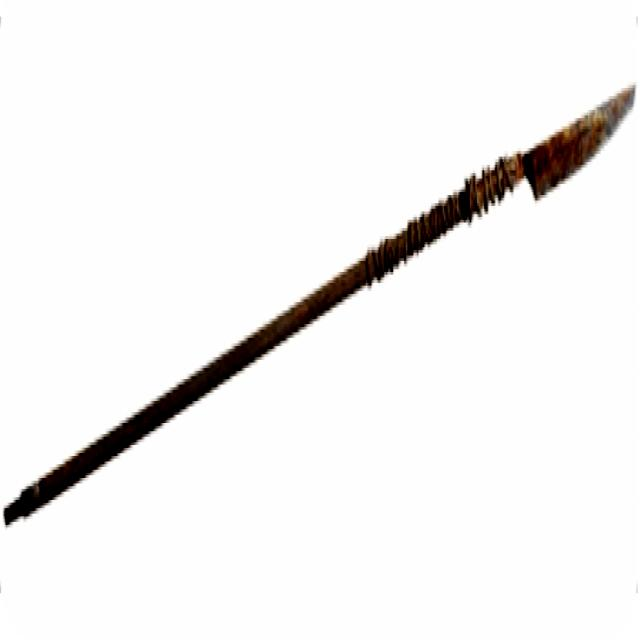spear: (3, 67, 638, 539)
